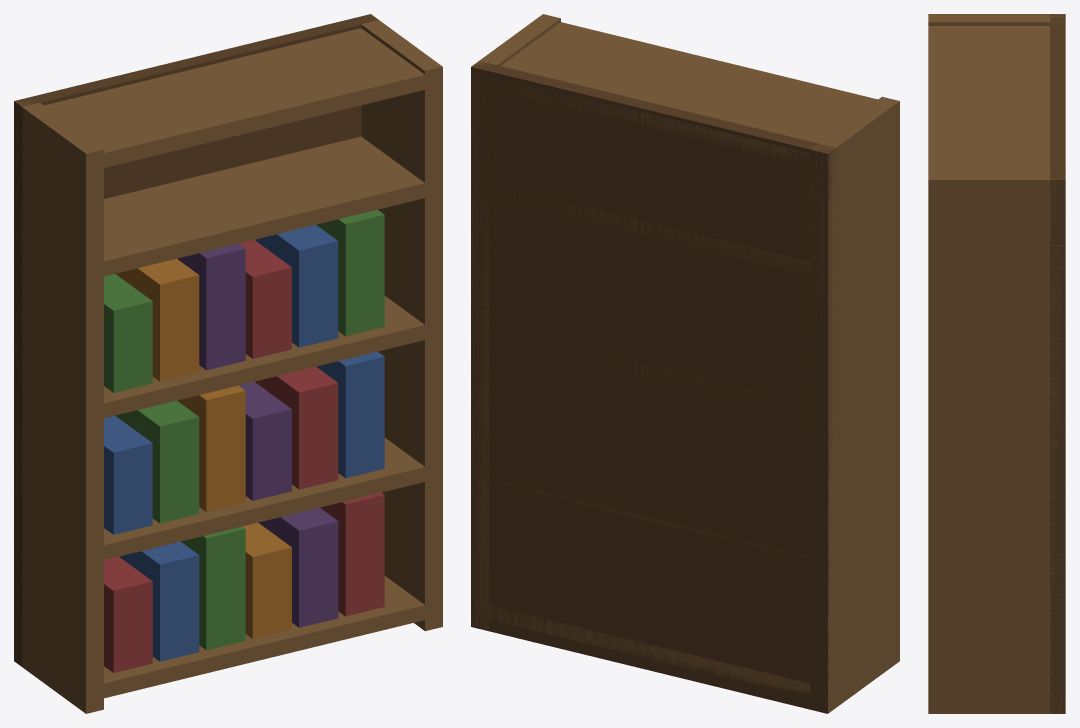
The model's file is bookshelf.glb.
3 views of the same model, side by side, from view 1: azimuth 30°, elevation 25°; view 2: azimuth 150°, elevation 25°; view 3: azimuth 270°, elevation 25° (orthographic). The views are drawn at different scales.
Parts seen in each view (by area): view 1: bookshelf_book (×18), bookshelf_side (×2), bookshelf_shelf (×5), bookshelf_back; view 2: bookshelf_back, bookshelf_side (×2), bookshelf_shelf (×5); view 3: bookshelf_side (×2), bookshelf_shelf, bookshelf_back.
Part boxes in pixels (bbox=[...]): bookshelf_book (×18): bbox=[104, 209, 384, 672]; bookshelf_side (×2): bbox=[14, 14, 442, 713]; bookshelf_shelf (×5): bbox=[44, 28, 424, 698]; bookshelf_back: bbox=[14, 14, 378, 666]; bookshelf_back: bbox=[471, 61, 835, 713]; bookshelf_side (×2): bbox=[471, 14, 899, 713]; bookshelf_shelf (×5): bbox=[489, 22, 877, 694]; bookshelf_side (×2): bbox=[928, 14, 1065, 713]; bookshelf_shelf: bbox=[928, 26, 1049, 171]; bookshelf_back: bbox=[1050, 14, 1065, 713].
Size of the model in its own units: 1 by 1.5 by 0.35.
